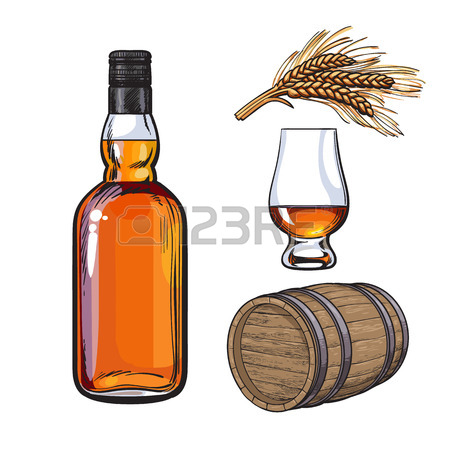bottle: (67, 46, 192, 408)
